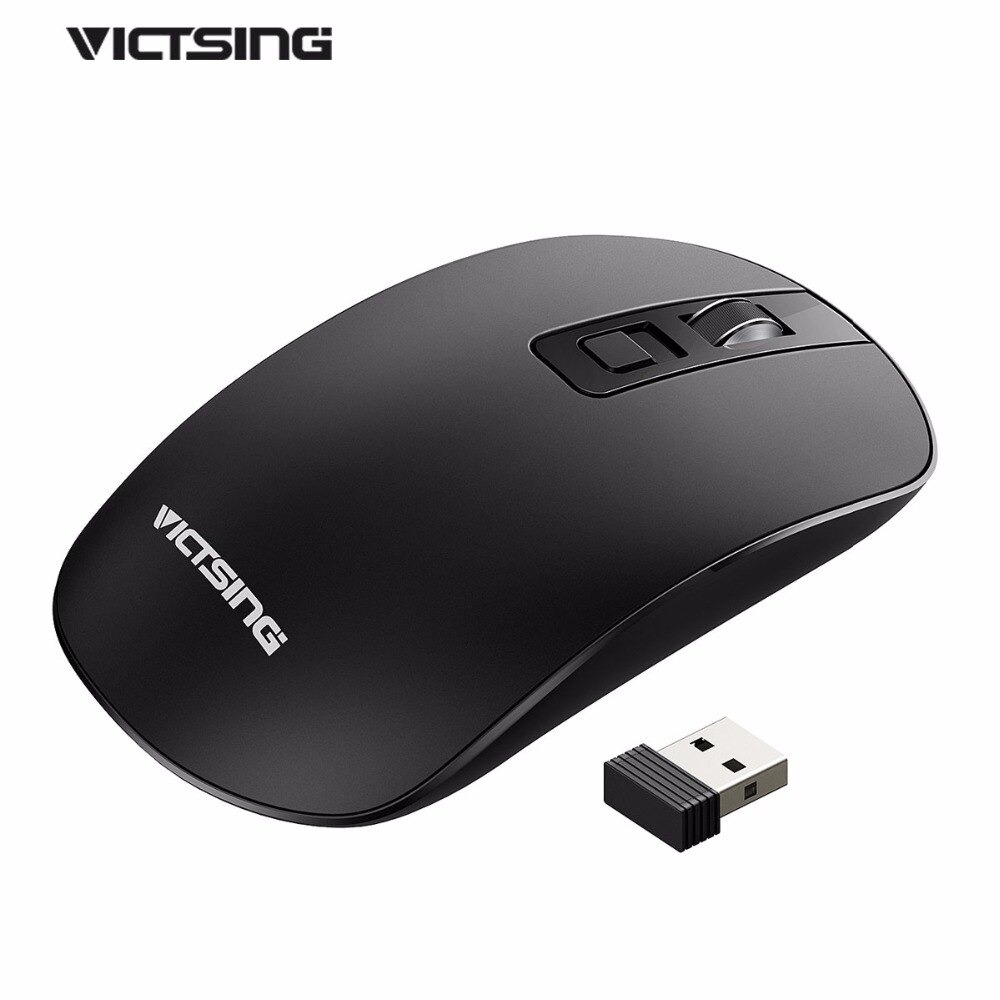mouse: (35, 203, 949, 834)
